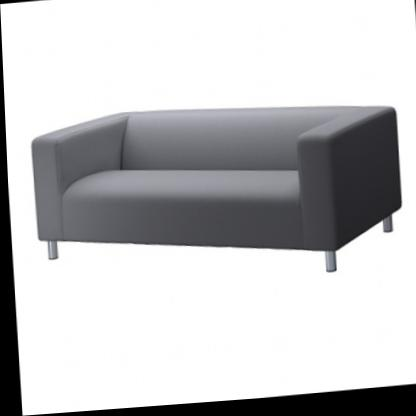Sofa: (21, 88, 409, 302)
